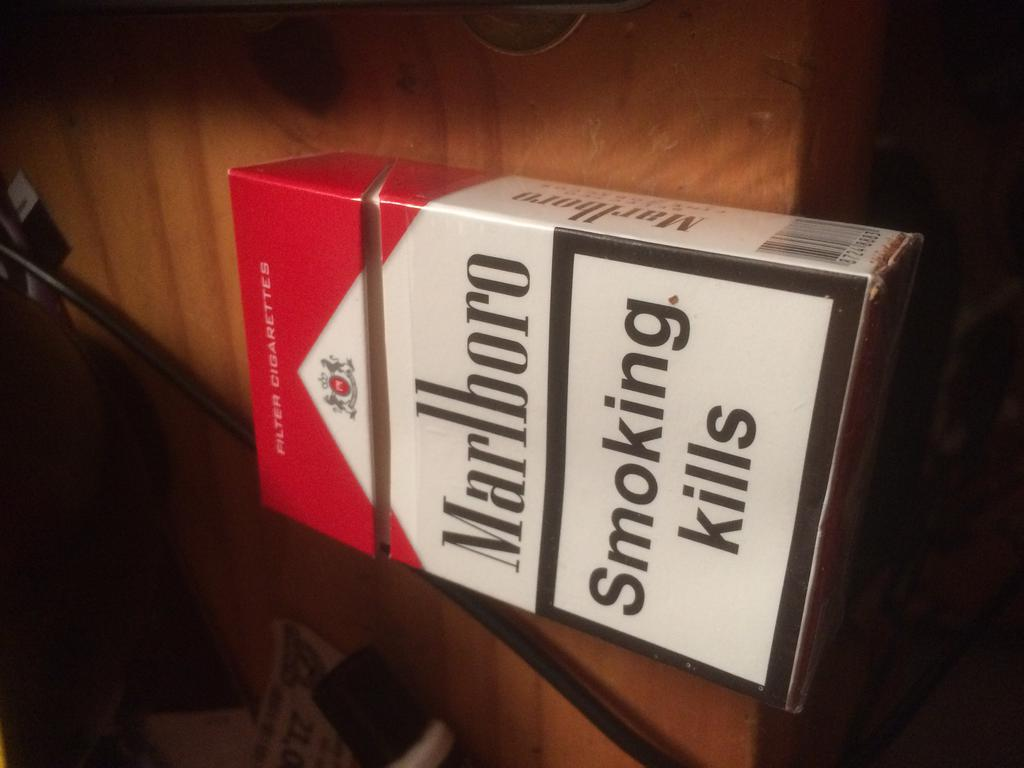marlboro_red: (245, 214, 787, 582)
